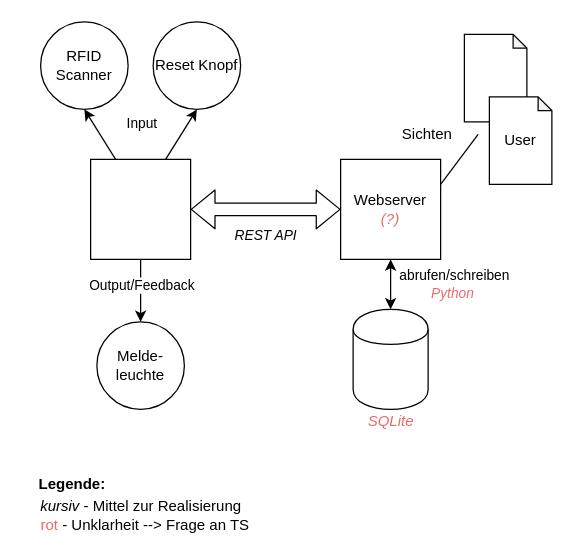
Some shapes in this 574 by 556 pixel diagram are drawn without their labels. The shapes that lost their labels are listed below. From the top down, each one's box as (x1, y1, x2, y2) in pixels, then its label:
(463, 33, 527, 122): Admin
(89, 158, 191, 259): Raspi Python
(352, 308, 428, 409): DB
